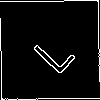L: (25, 25, 77, 77)
